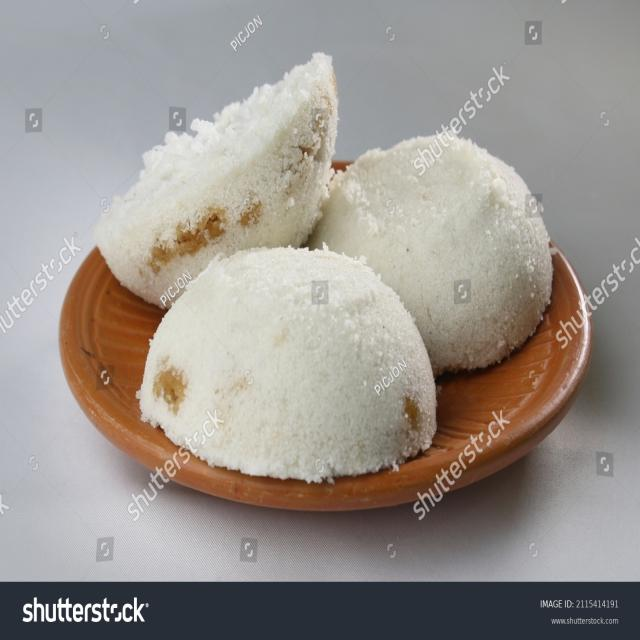IDLI: (140, 248, 436, 482), (96, 55, 338, 307), (306, 130, 552, 376)
